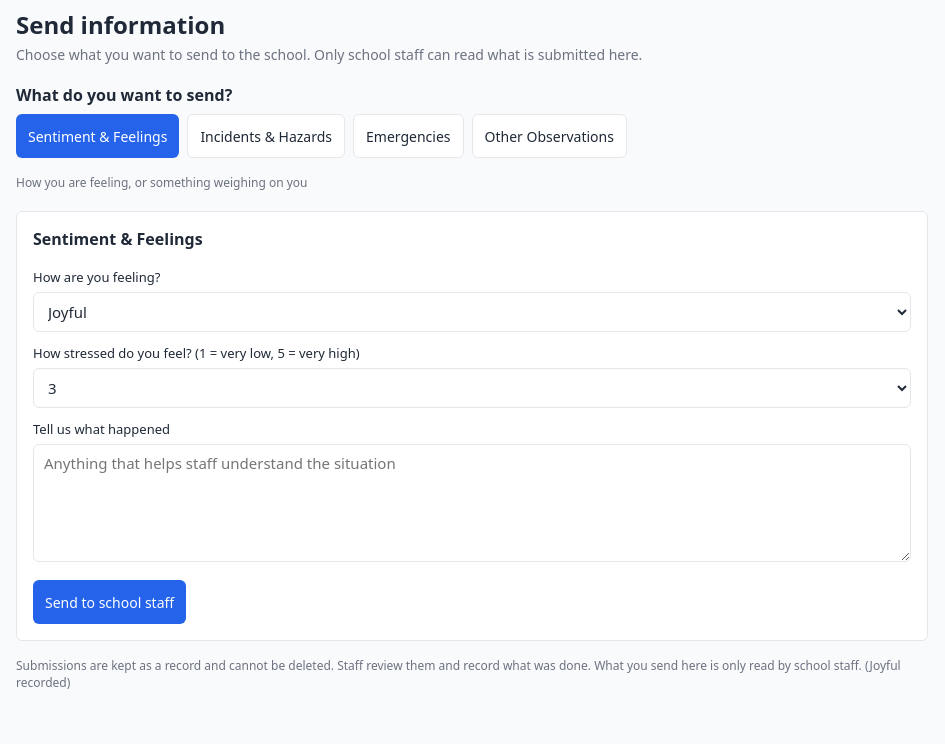
Submit › confirms that the information was sent
Expected: the button "Sentiment & Feelings" is shown, [16, 114, 179, 158]
Type "I am finding the schoolwork hard this term." into the text box labelled "Tell us what happened". click: (472, 503)
box: [33, 444, 911, 562]
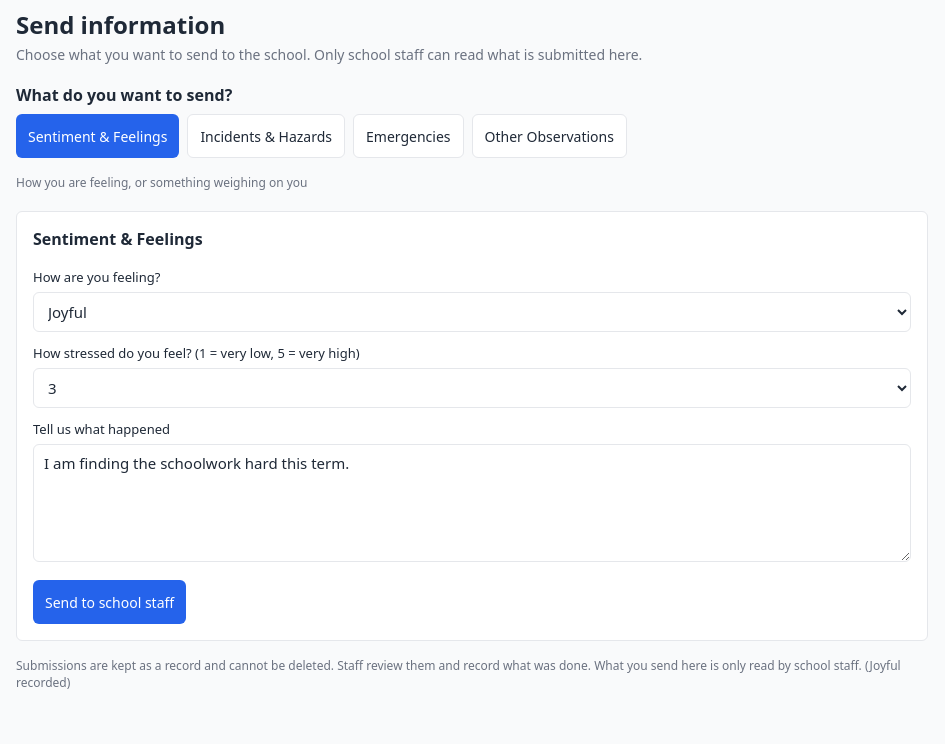
Click the button "Send to school staff". click: (110, 602)
box: [33, 580, 186, 624]
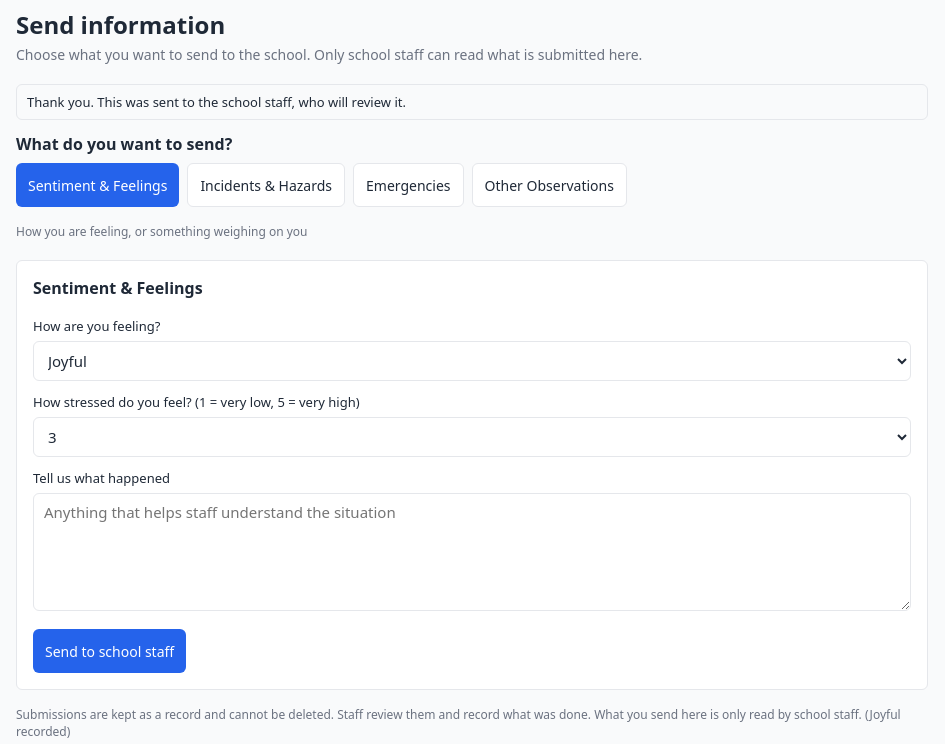
Expected: the message shows "sent to the school staff", [27, 93, 406, 111]
